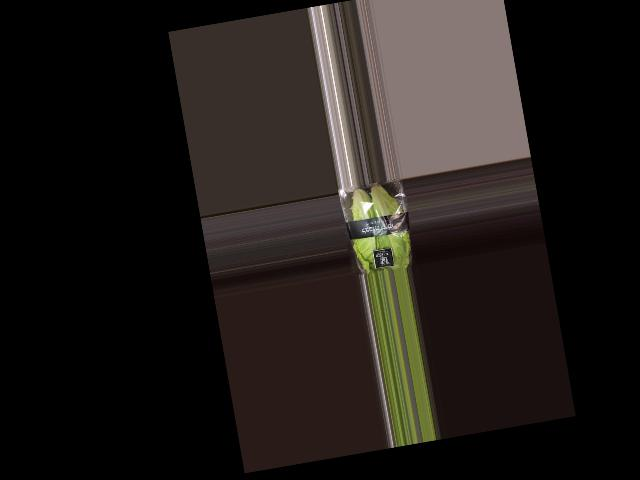lettuce: (338, 178, 412, 276)
